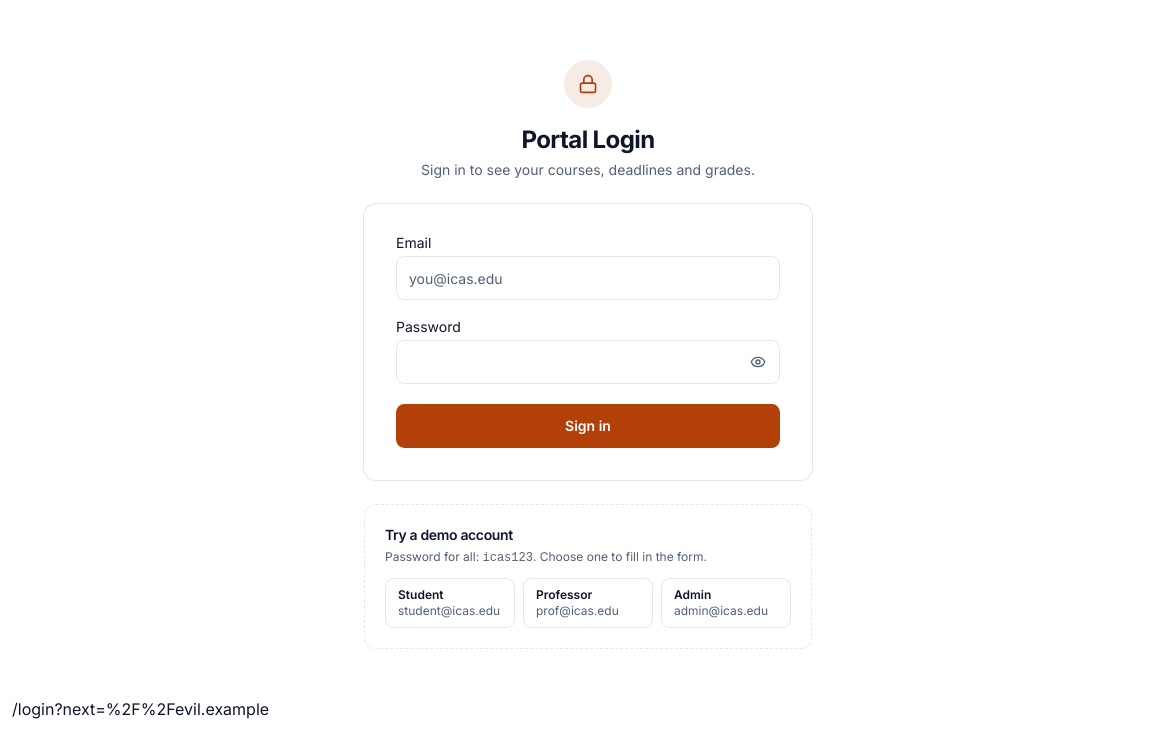
Scenario: portal login flow › ignores off-site ?next= targets
The image size is (1164, 732).
Step 1. Type "prof@icas.edu" into the field labelled "Email" → [588, 278], box x1=396 y1=256 x2=780 y2=300
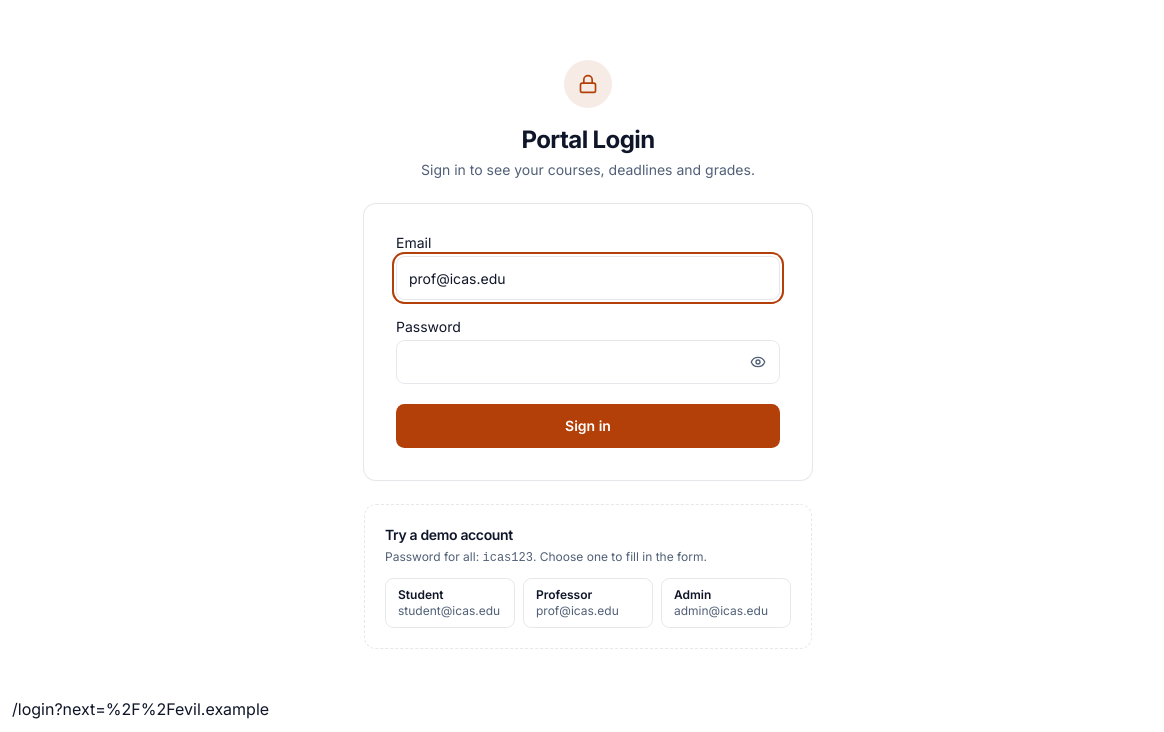
Step 2. Type "icas123" into the password field labelled "Password" → [588, 362], box x1=396 y1=340 x2=780 y2=384
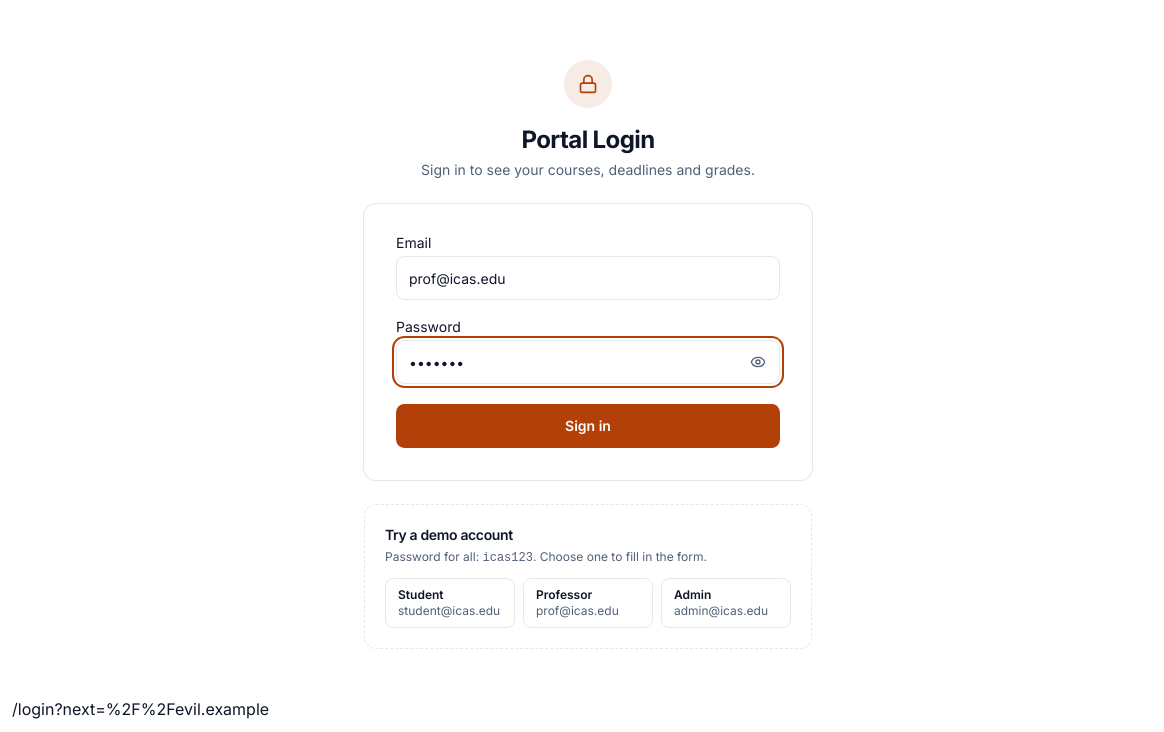
Step 3. Click the button "Sign in" → [588, 426], box x1=396 y1=404 x2=780 y2=448
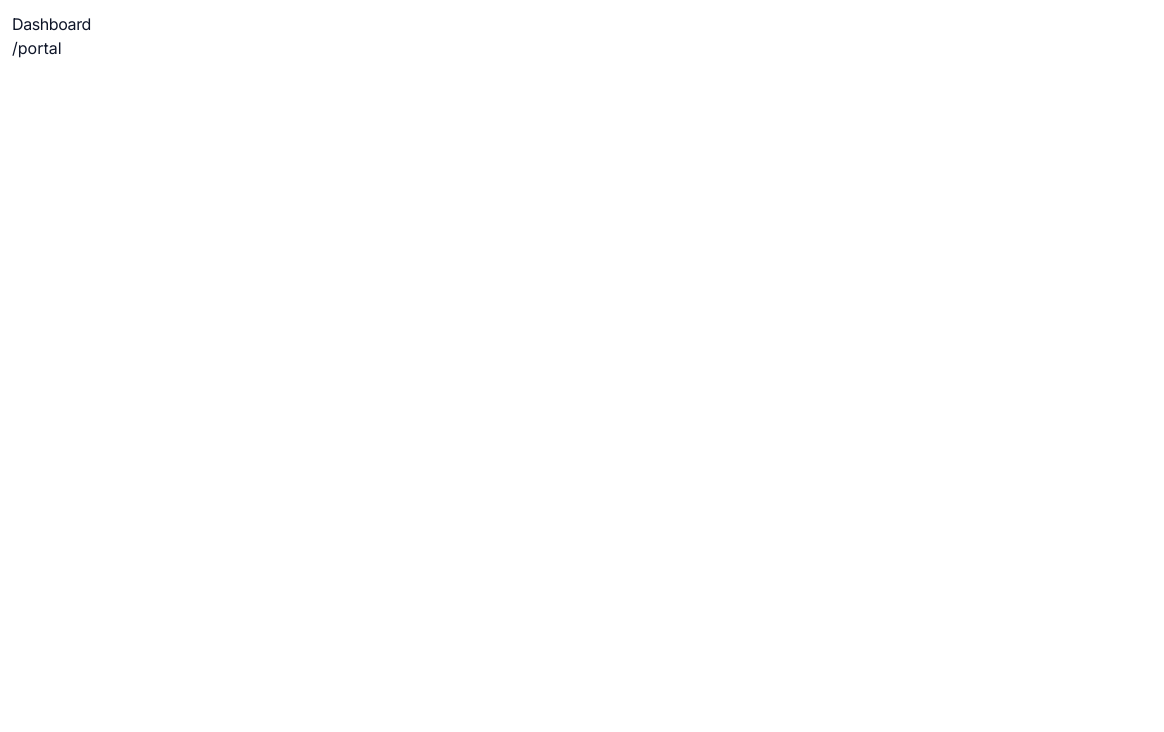
expect the heading "Dashboard" is shown: met, box x1=12 y1=14 x2=91 y2=34
expect the text with test id "location" reads "/portal": met, box x1=12 y1=38 x2=62 y2=58
